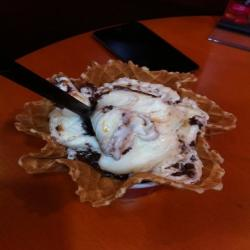icecream: (38, 77, 216, 191)
